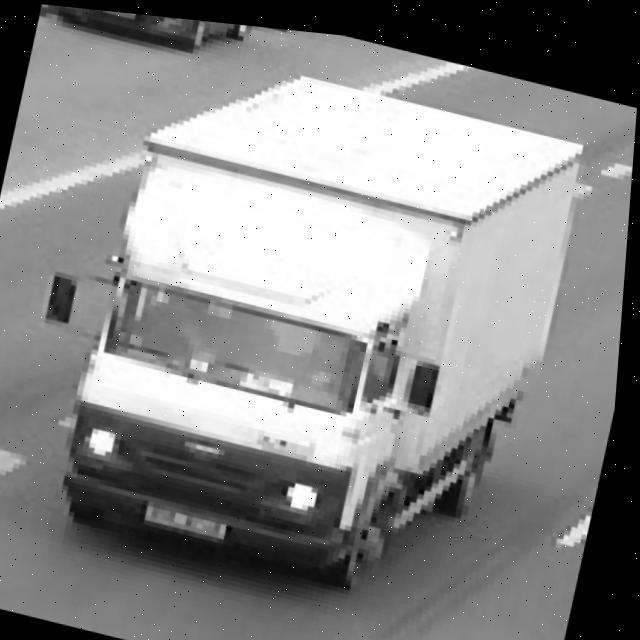truck: (10, 106, 498, 600)
